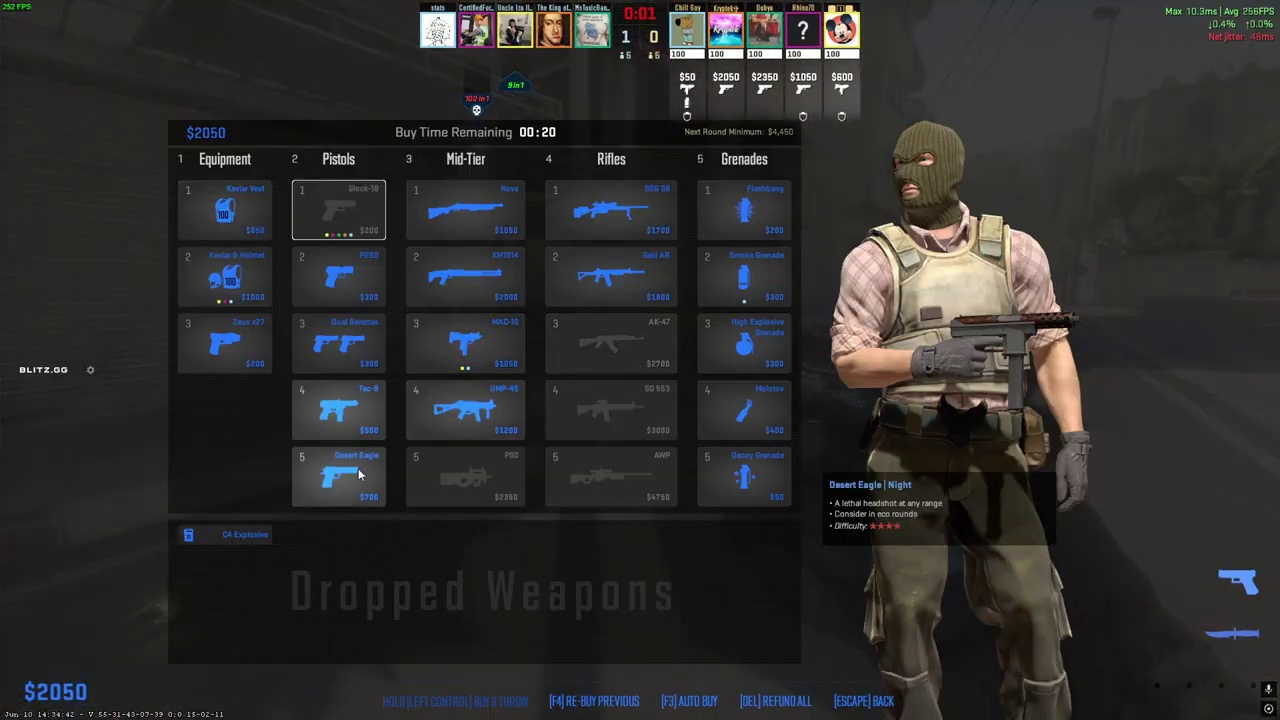Terrorist: (849, 121, 1074, 720)
